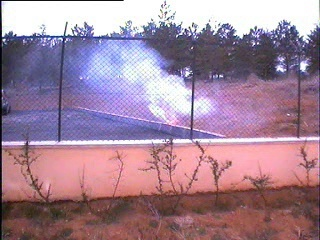smoke: (78, 39, 213, 127)
